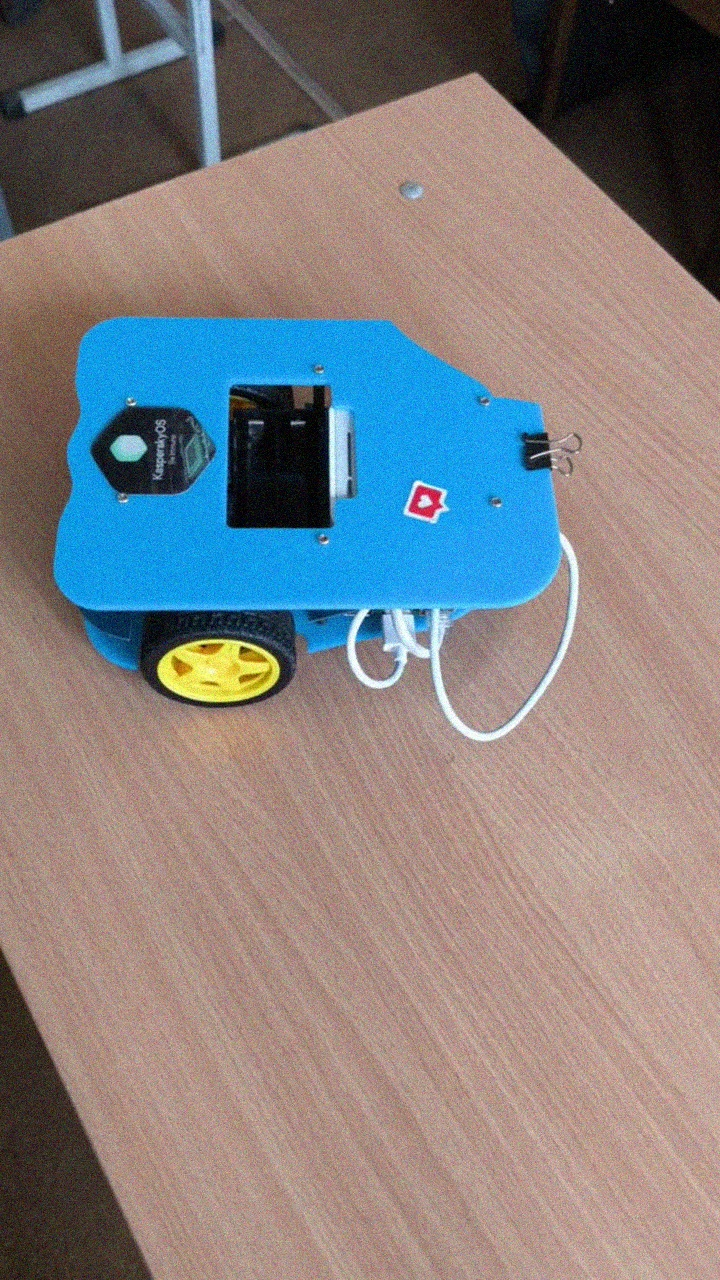robot: (51, 317, 586, 744)
